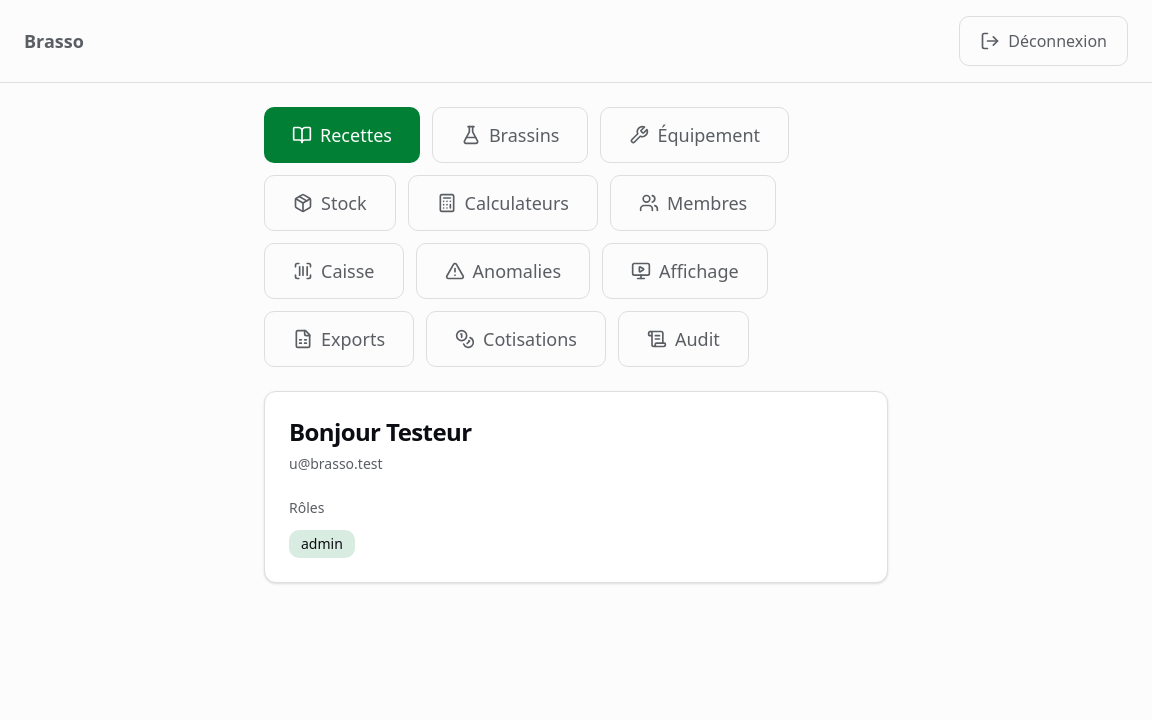
Test case: hub d'accueil — atteignabilité et masquage RBAC › C. atteignabilité réelle (clic → route cible, pas la redirection * → /) › Membres (admin) mène réellement à /members
The image size is (1152, 720).
Click the link "Membres" at (693, 203), box [610,175,776,231]
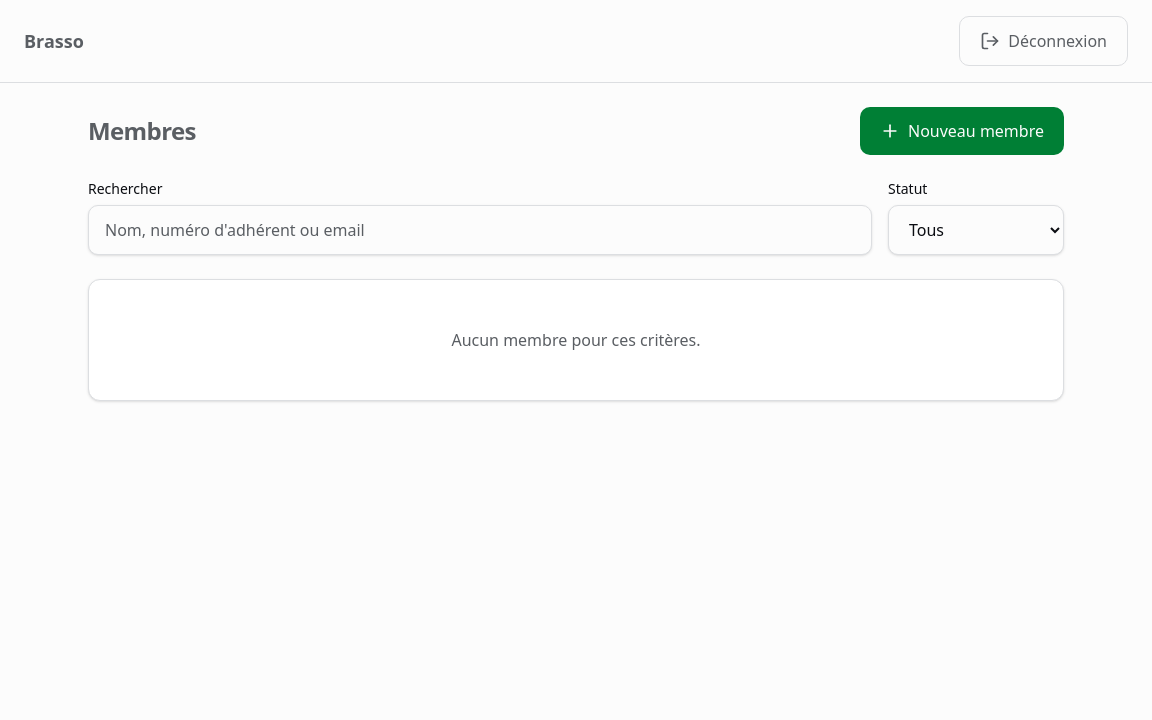
Now the heading "Membres" is shown, box [88,115,196,147]
Now the heading "Bonjour" is gone
